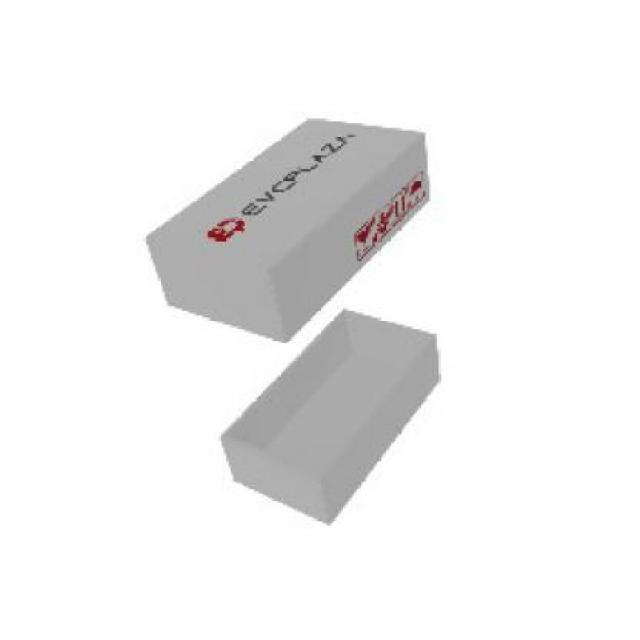box: (144, 111, 428, 346), (212, 304, 443, 527)
